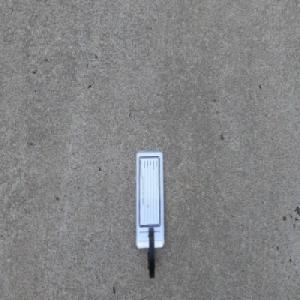LuggageTag: (134, 149, 165, 281)
